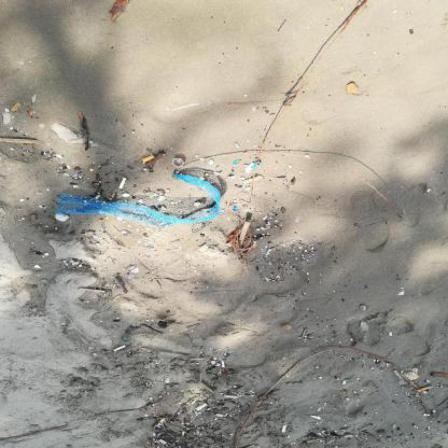Bottle cap: (174, 160, 185, 169)
Cigarette: (418, 386, 434, 393), (143, 156, 157, 164), (114, 346, 127, 353), (198, 403, 209, 411), (160, 439, 169, 445), (226, 396, 239, 400), (283, 425, 288, 433), (337, 378, 341, 382), (183, 433, 186, 438)
Other litter: (56, 174, 222, 229)
Other plastic: (252, 163, 261, 170), (235, 207, 241, 212)
Unlabeled litter: (120, 178, 128, 190), (129, 274, 138, 280), (73, 175, 81, 178)
